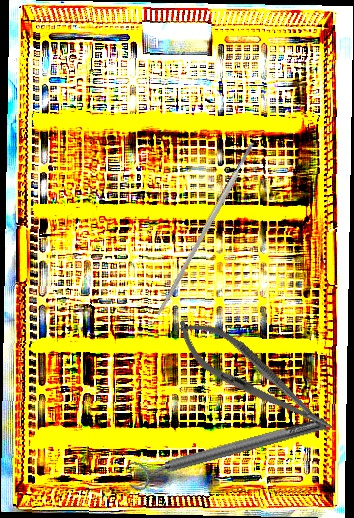Fixation Ring: (123, 408, 331, 494)
Needle Holder: (165, 306, 344, 450)
Scalpel Handle: (154, 141, 258, 317)
